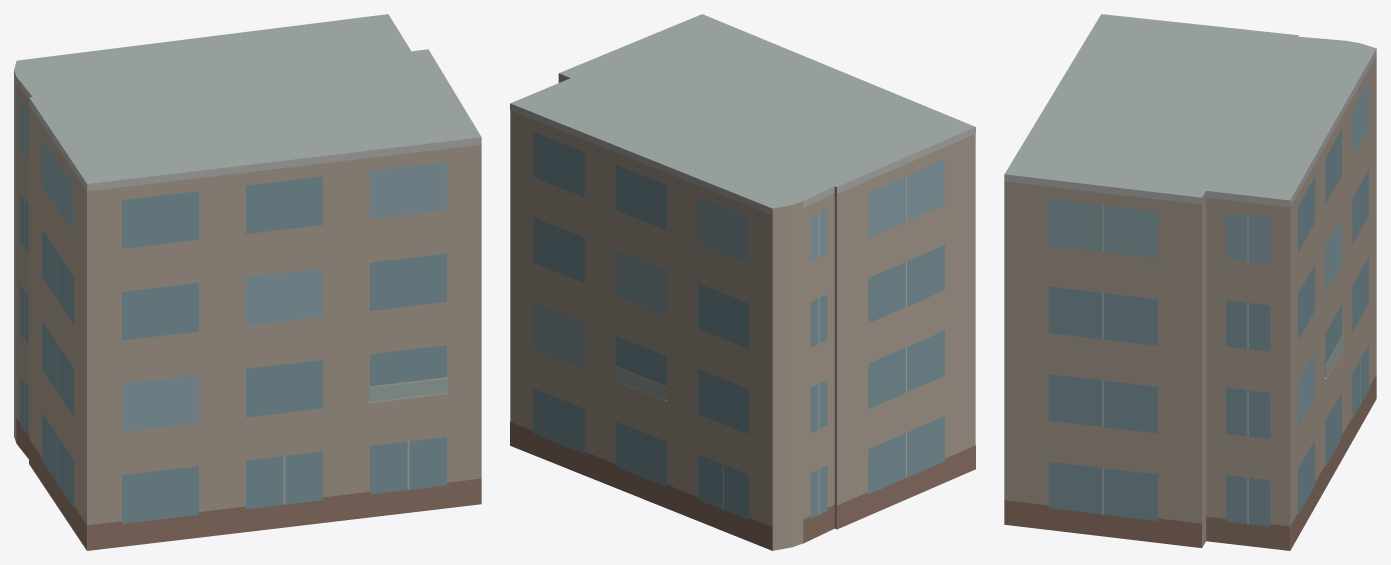
The model's file is survey-upis-32927470.glb.
The picture shows the model from 3 angles, left to right: view 1: azimuth 30°, elevation 25°; view 2: azimuth 150°, elevation 25°; view 3: azimuth 270°, elevation 25°; orthographic projection. The views are drawn at different scales.
Visible parts, largest first — view 1: survey-upis-32927470.tmp; view 2: survey-upis-32927470.tmp; view 3: survey-upis-32927470.tmp.
Boxes of the visible parts, box(x1,y1,x2,y2) form: survey-upis-32927470.tmp: box(14, 14, 481, 550); survey-upis-32927470.tmp: box(510, 14, 975, 550); survey-upis-32927470.tmp: box(1004, 14, 1376, 550).
Size of the model in its own units: 13.94 by 12.2 by 11.76.
